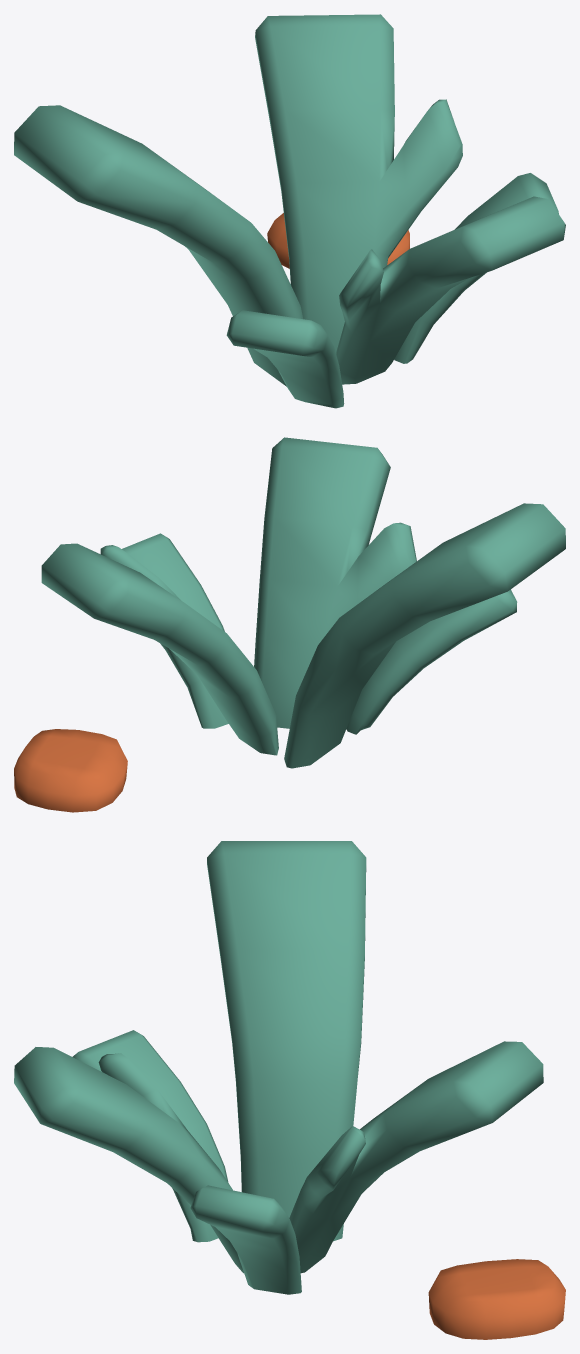
File: blue_grass_large.obj
3 views of the same model, one above another, from view 1: azimuth 30°, elevation 25°; view 2: azimuth 150°, elevation 25°; view 3: azimuth 270°, elevation 25° (orthographic). The views are drawn at different scales.
Parts seen in each view (by area): view 1: blue_grass_large; view 2: blue_grass_large; view 3: blue_grass_large.
Part boxes in pixels (x1,y1,x2,y2): blue_grass_large: (14,14,565,408); blue_grass_large: (14,437,565,812); blue_grass_large: (14,841,565,1339).
Size of the model in its own units: 1.78 by 1.03 by 1.76.
